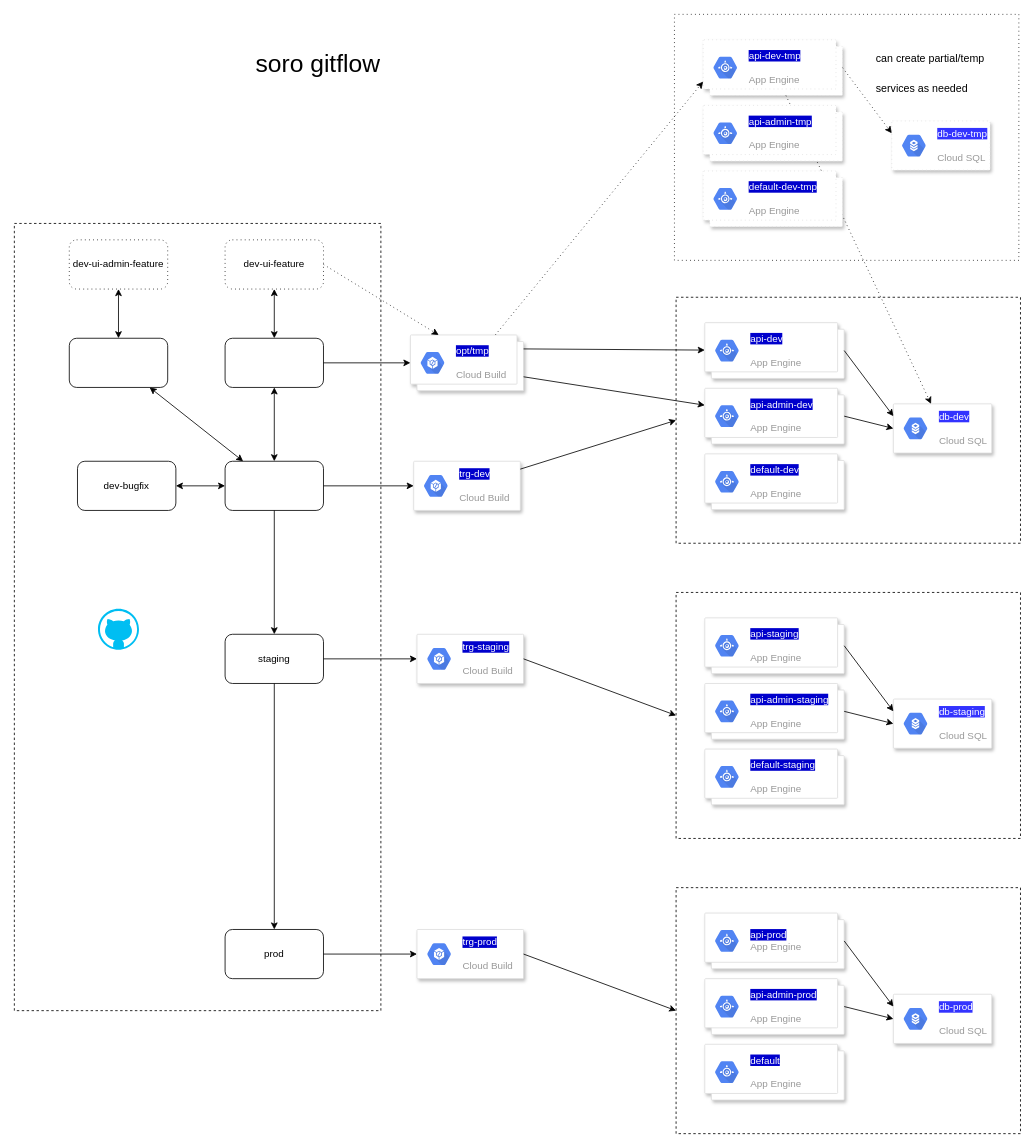
Some shapes in this 1035 by 1148 pixel diagram are drawn without their labels. Each missing label, with the centre of its shape:
dev: (x=273, y=485)
dev-ui: (x=273, y=362)
dev-ui-admin: (x=118, y=362)
